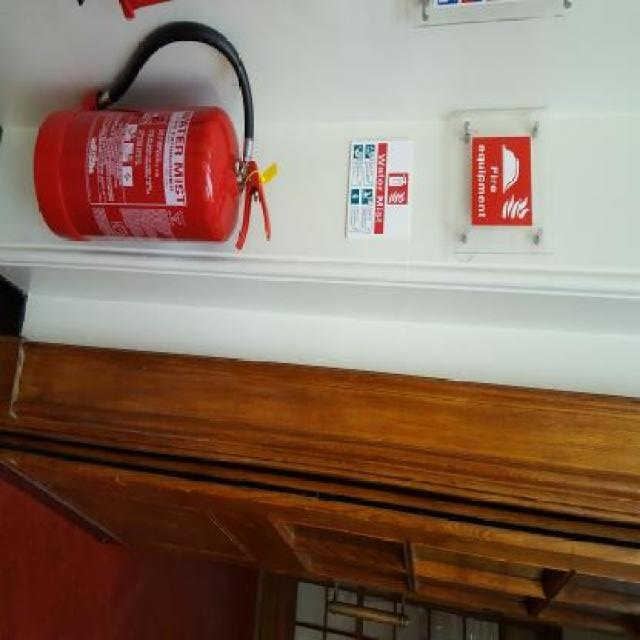fire extinguisher: (34, 20, 271, 252)
